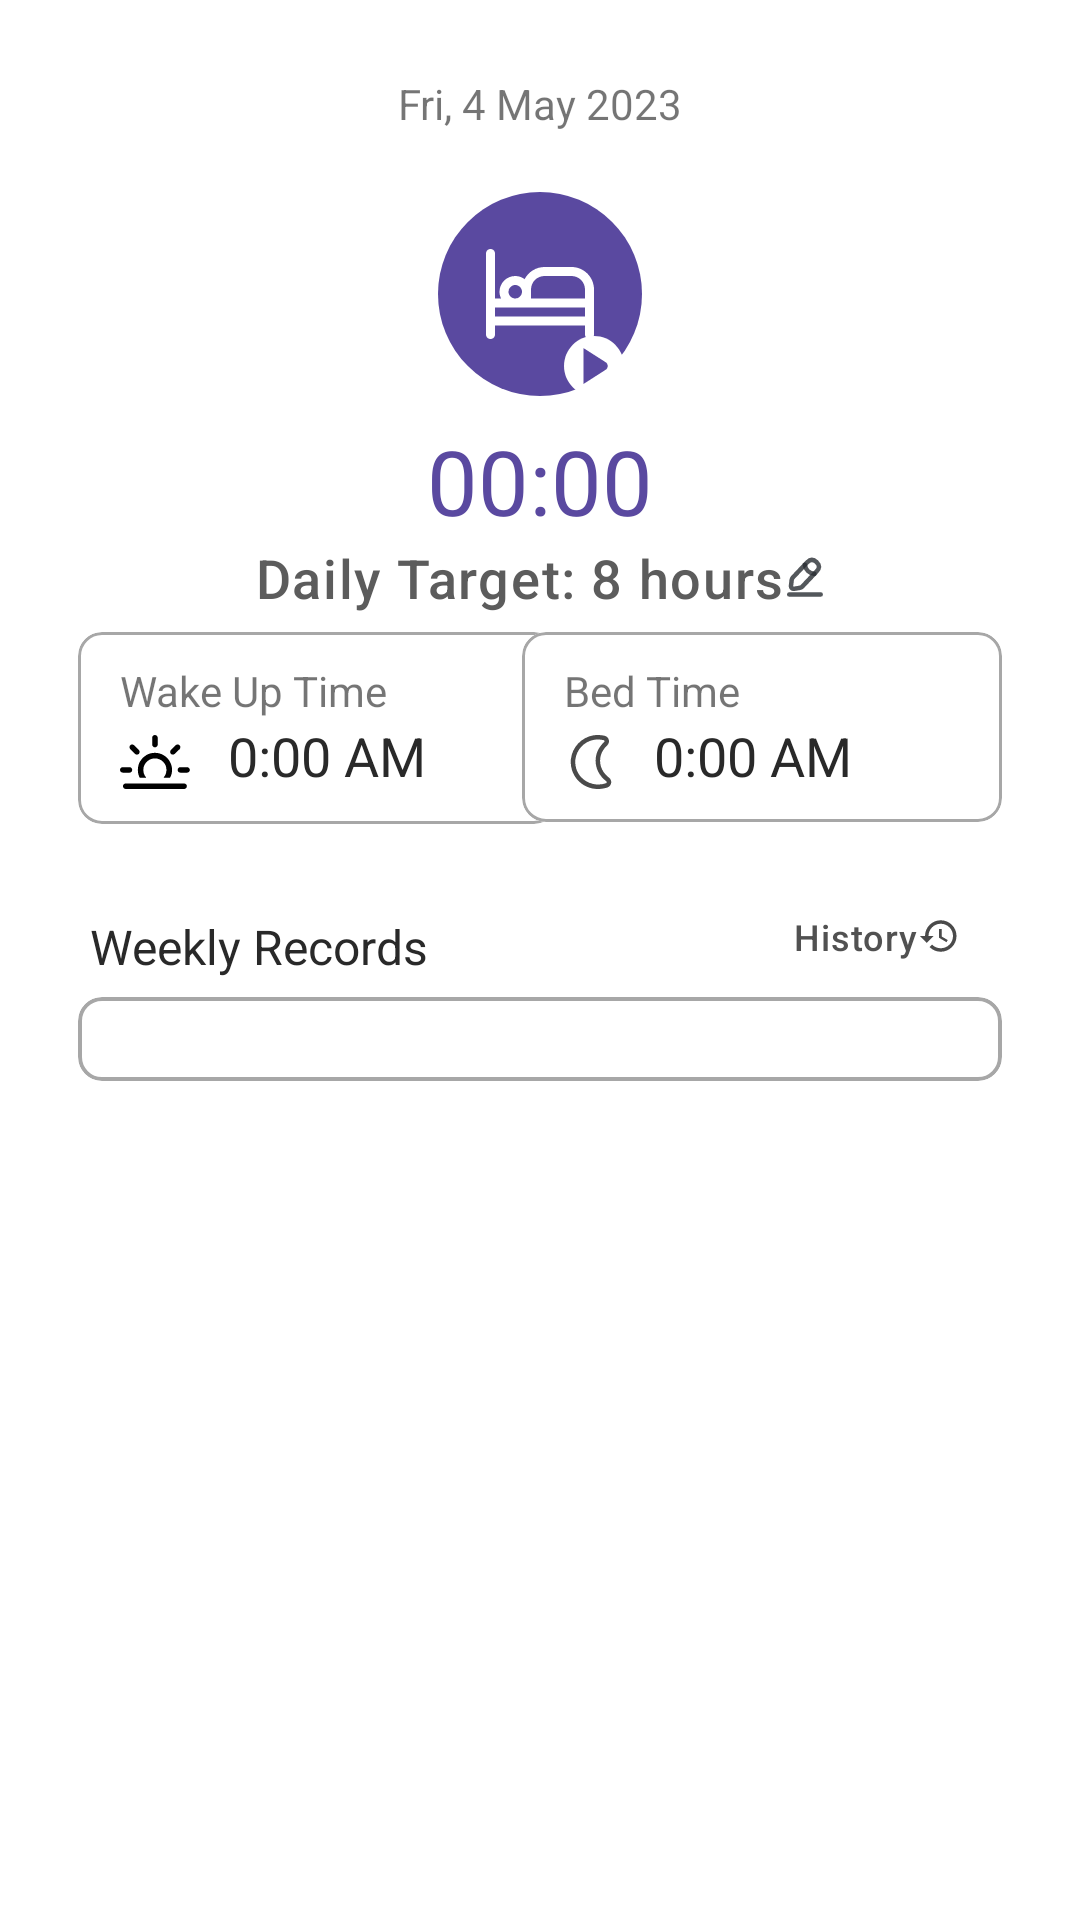

Icon click points for this 1080w x 1920h phone screenshot, format (x=x, y=y):
moon: (x=591, y=762)
Play sleep: (x=540, y=294)
sun: (x=155, y=762)
